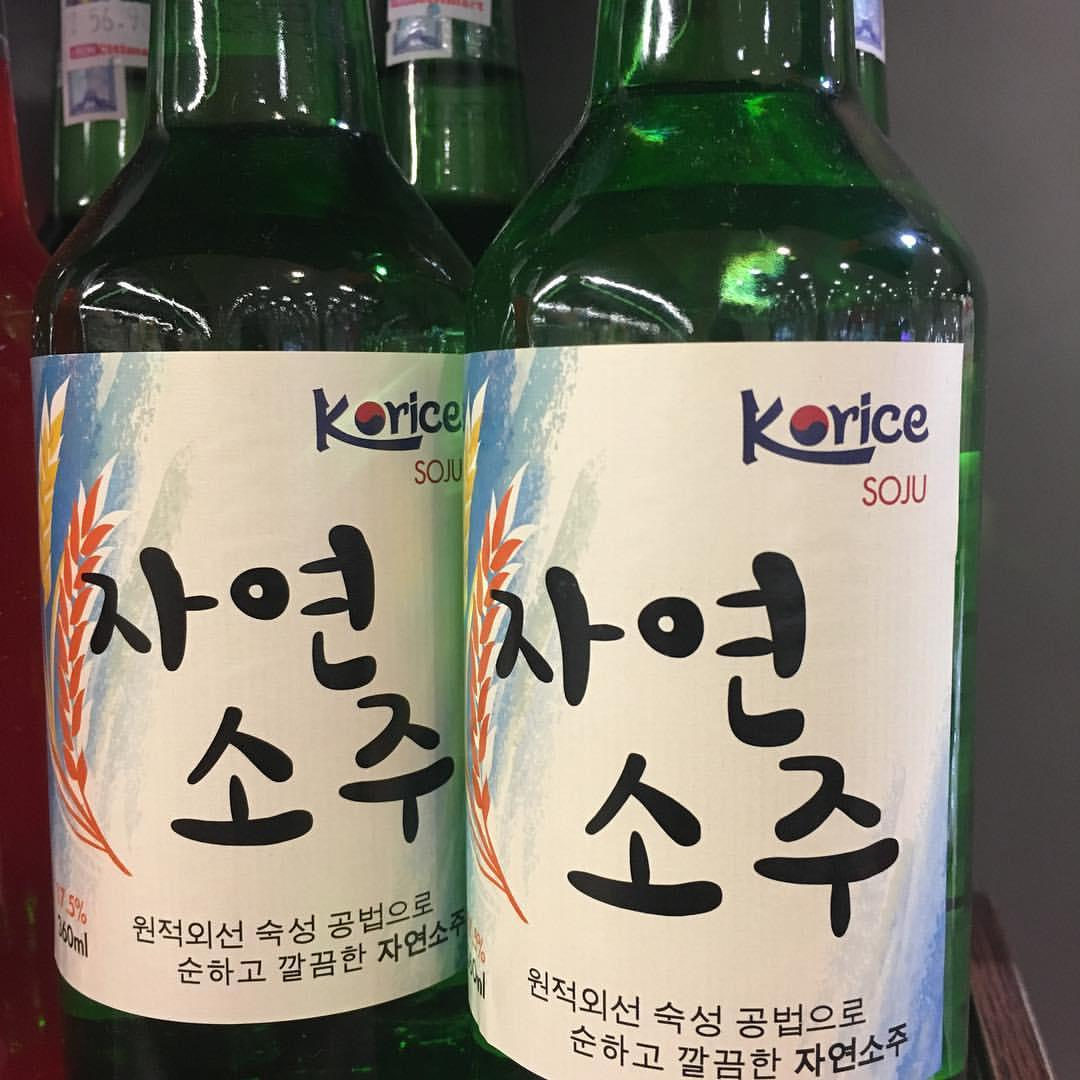soju: (22, 11, 982, 1080)
